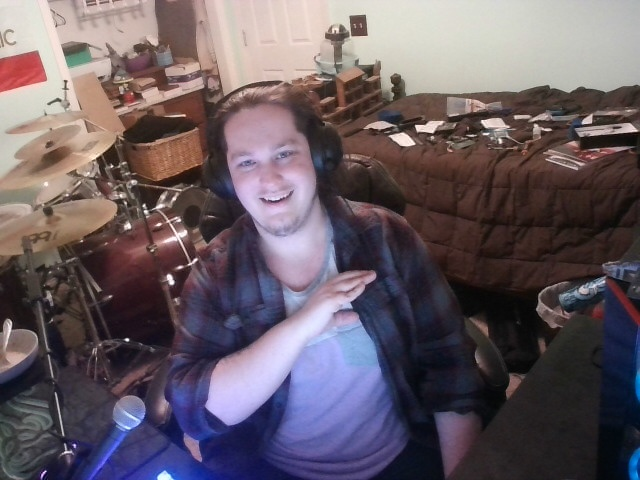police: (290, 265, 393, 352)
